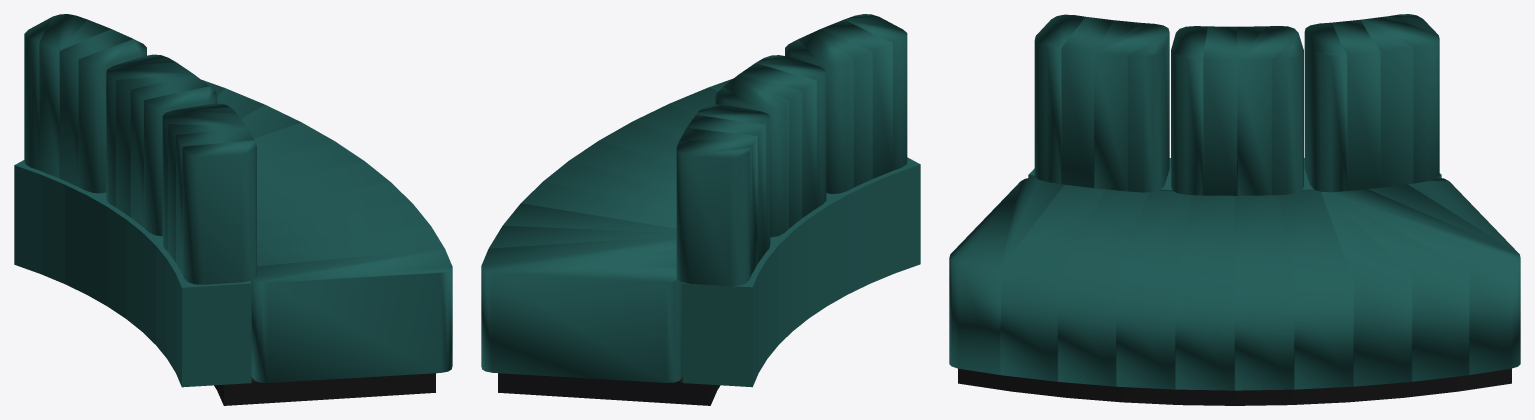
File: banquette_seg.glb
The picture shows the model from 3 angles, left to right: view 1: azimuth 30°, elevation 25°; view 2: azimuth 150°, elevation 25°; view 3: azimuth 270°, elevation 25°; orthographic projection. The views are drawn at different scales.
Parts seen in each view (by area): view 1: Mesh_Seat, Mesh_BackBase, Mesh_Back2, Mesh_Back0, Mesh_Back1, Mesh_Plinth; view 2: Mesh_Seat, Mesh_BackBase, Mesh_Back0, Mesh_Back2, Mesh_Back1, Mesh_Plinth; view 3: Mesh_Seat, Mesh_Back2, Mesh_Back0, Mesh_Back1, Mesh_Plinth.
Part boxes in pixels (box(x1,y1,x2,y2)): Mesh_Seat: box(201, 79, 452, 382); Mesh_BackBase: box(14, 160, 251, 387); Mesh_Back2: box(162, 103, 256, 284); Mesh_Back0: box(24, 14, 146, 193); Mesh_Back1: box(106, 54, 217, 236); Mesh_Plinth: box(214, 373, 435, 405); Mesh_Seat: box(481, 78, 733, 382); Mesh_BackBase: box(682, 157, 920, 387); Mesh_Back0: box(676, 104, 770, 285); Mesh_Back2: box(785, 14, 907, 193); Mesh_Back1: box(715, 55, 826, 237); Mesh_Plinth: box(498, 373, 720, 405); Mesh_Seat: box(949, 177, 1520, 390); Mesh_Back2: box(1034, 14, 1169, 192); Mesh_Back0: box(1304, 14, 1439, 192); Mesh_Back1: box(1171, 26, 1303, 195); Mesh_Plinth: box(958, 368, 1511, 405).
Size of the model in its own units: 1.01 by 0.9 by 1.75.
